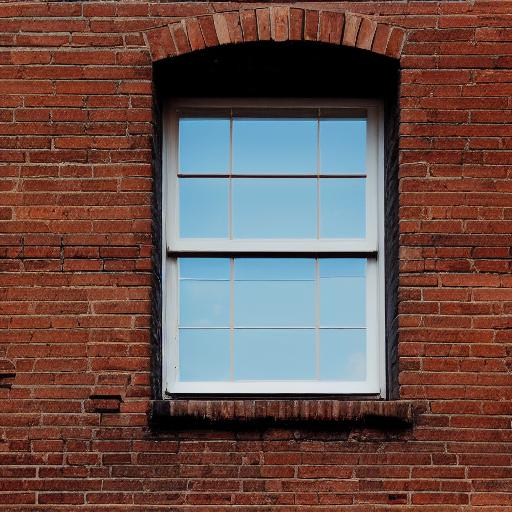Window: (134, 8, 419, 432)
